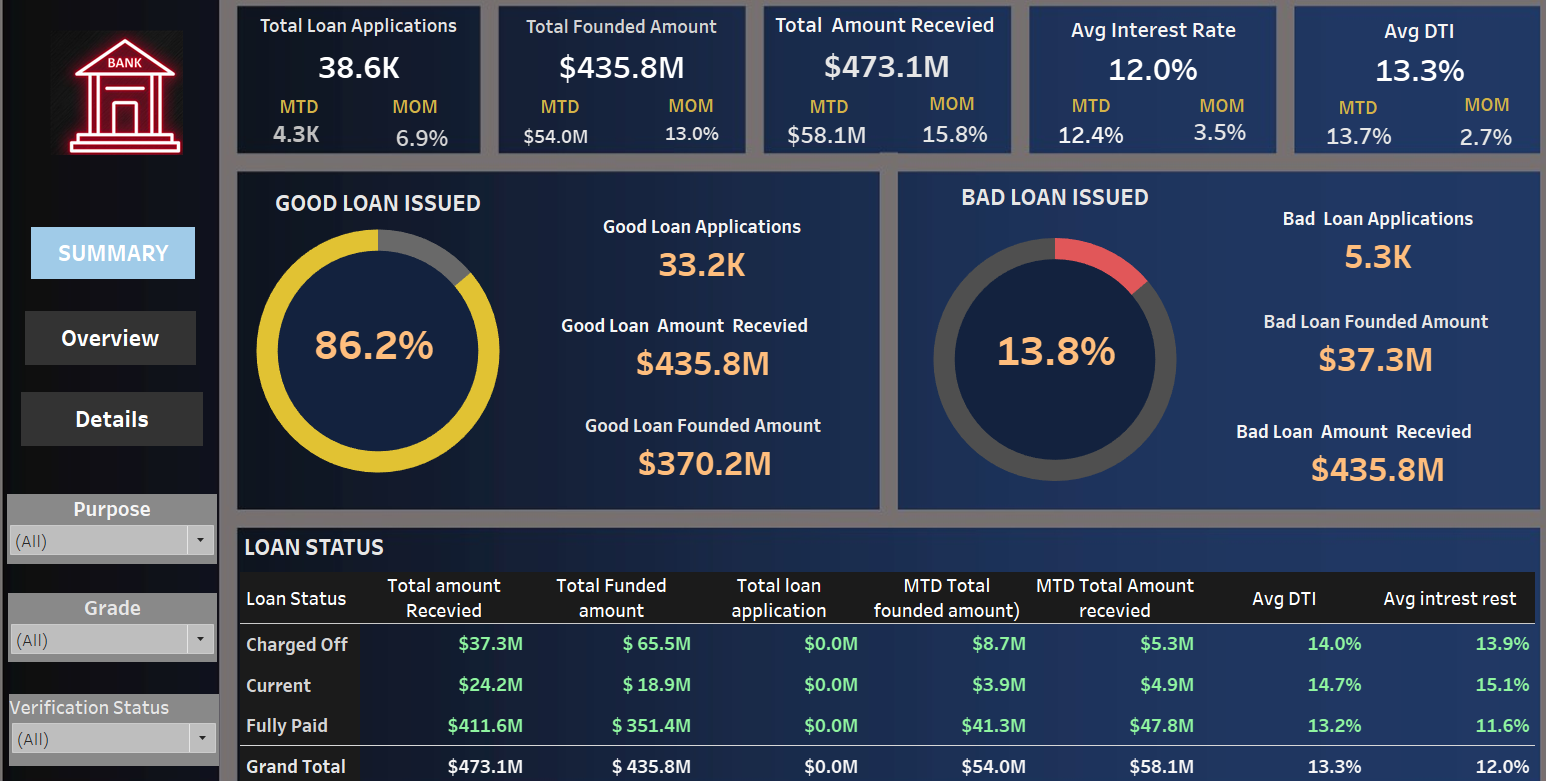

The page's visual inventory and layout, read from the dashboard file:
{"tool":"tableau","page":{"name":"SUMMARY","canvas":[1600,900],"ordinal":3},"visuals":[{"type":"image","param":"C:/Users/shubh/Downloads/Tableau Background 1 (1).jpg","box":[8,8,1584,884]},{"type":"text","box":[543,22,683,52]},{"type":"worksheet","title":"Total  Amount Recevied ","mark":"Automatic","box":[792,96,246,74]},{"type":"worksheet","title":"Total Loan Applications","mark":"Automatic","box":[264,98,245,75]},{"type":"worksheet","title":"Total Founded Amount","mark":"Automatic","box":[527,99,245,74]},{"type":"worksheet","title":"Avg Interest Rate","mark":"Automatic","box":[1063,101,237,70]},{"type":"worksheet","title":"Avg DTI","mark":"Automatic","box":[1328,102,239,70]},{"type":"image","param":"C:/Users/shubh/Pictures/Screenshots/Screenshot 2025-01-28 113935.png","box":[56,120,177,125]},{"type":"text","box":[927,183,102,20]},{"type":"text","box":[1462,184,102,20]},{"type":"text","box":[666,185,102,20]},{"type":"text","box":[1066,185,102,20]},{"type":"text","box":[1197,185,102,20]},{"type":"text","box":[274,186,102,20]},{"type":"text","box":[390,186,102,20]},{"type":"text","box":[535,186,102,20]},{"type":"text","box":[804,186,102,20]},{"type":"text","box":[1333,187,102,20]},{"type":"worksheet","title":"MTD  Avg IR","mark":"Automatic","box":[1076,200,85,48]},{"type":"worksheet","title":"MTD total l A","mark":"Automatic","box":[287,202,73,41]},{"type":"worksheet","title":"MOM Avg IR","mark":"Automatic","box":[1206,202,83,37]},{"type":"worksheet","title":"MTD TAR ","mark":"Automatic","box":[798,203,113,42]},{"type":"worksheet","title":"MOM TAR","mark":"Automatic","box":[934,203,97,40]},{"type":"worksheet","title":"MTD TFA","mark":"Automatic","box":[539,204,89,43]},{"type":"worksheet","title":"MOM T founded amounts","mark":"Automatic","box":[686,204,67,37]},{"type":"worksheet","title":"MTD  Avg DTI","mark":"Automatic","box":[1338,204,97,42]},{"type":"worksheet","title":"MOM Avg DTI","mark":"Automatic","box":[1467,209,93,34]},{"type":"worksheet","title":"MOM LA","mark":"Automatic","box":[408,210,83,33]},{"type":"worksheet","title":"BAD LOAN ISSUED","mark":"Pie","rows":["Calculation_390687307996479489","Calculation_390687307996479489"],"box":[924,267,318,320]},{"type":"worksheet","title":"GOOD LOAN ISSUED","mark":"Pie","rows":["Calculation_390687307996479489","Calculation_390687307996479489"],"box":[173,273,466,291]},{"type":"worksheet","title":"Bad  Loan Applications","mark":"Automatic","box":[1256,287,300,75]},{"type":"worksheet","title":"Good Loan Applications","mark":"Automatic","box":[580,295,300,75]},{"type":"dashboard-object","box":[59,317,164,52]},{"type":"worksheet","title":"Bad Loan Founded Amount","mark":"Automatic","box":[1254,390,300,75]},{"type":"worksheet","title":"Good Loan Application % ","mark":"Automatic","box":[328,391,148,84]},{"type":"worksheet","title":"Good Loan  Amount  Recevied","mark":"Automatic","box":[581,394,300,75]},{"type":"worksheet","title":"Bad Loan Application % ","mark":"Automatic","box":[999,398,169,82]},{"type":"dashboard-object","box":[53,401,171,54]},{"type":"dashboard-object","box":[49,482,182,54]},{"type":"worksheet","title":"Good Loan Founded Amount ","mark":"Automatic","box":[583,494,300,75]},{"type":"worksheet","title":"Bad Loan  Amount  Recevied","mark":"Automatic","box":[1256,500,300,75]},{"type":"filter","title":"GOOD LOAN ISSUED","param":"[federated.1ejbcfz0zn1zyp1604vu70ptl5ki].[none:purpose:nk]","box":[35,584,210,70]},{"type":"worksheet","title":"LOAN STATUS","mark":"Automatic","rows":["loan_status"],"box":[268,617,1295,260]},{"type":"filter","title":"GOOD LOAN ISSUED","param":"[federated.1ejbcfz0zn1zyp1604vu70ptl5ki].[none:grade:nk]","box":[36,683,209,69]},{"type":"filter","title":"GOOD LOAN ISSUED","param":"[federated.1ejbcfz0zn1zyp1604vu70ptl5ki].[none:verification_status:nk]","box":[37,784,210,72]}]}

Visuals, with their boxes on the page's 1600x900 design canvas (x1, y1, x2, y2). These are canvas units, not pixel positions in the 1546x782 screenshot, which may show the page scaled, cropped or inside an application window:
image: (x1=8, y1=8, x2=1592, y2=892)
text: (x1=543, y1=22, x2=1226, y2=74)
"Total  Amount Recevied " worksheet: (x1=792, y1=96, x2=1038, y2=170)
"Total Loan Applications" worksheet: (x1=264, y1=98, x2=509, y2=173)
"Total Founded Amount" worksheet: (x1=527, y1=99, x2=772, y2=173)
"Avg Interest Rate" worksheet: (x1=1063, y1=101, x2=1300, y2=171)
"Avg DTI" worksheet: (x1=1328, y1=102, x2=1567, y2=172)
image: (x1=56, y1=120, x2=233, y2=245)
text: (x1=927, y1=183, x2=1029, y2=203)
text: (x1=1462, y1=184, x2=1564, y2=204)
text: (x1=666, y1=185, x2=768, y2=205)
text: (x1=1066, y1=185, x2=1168, y2=205)
text: (x1=1197, y1=185, x2=1299, y2=205)
text: (x1=274, y1=186, x2=376, y2=206)
text: (x1=390, y1=186, x2=492, y2=206)
text: (x1=535, y1=186, x2=637, y2=206)
text: (x1=804, y1=186, x2=906, y2=206)
text: (x1=1333, y1=187, x2=1435, y2=207)
"MTD  Avg IR" worksheet: (x1=1076, y1=200, x2=1161, y2=248)
"MTD total l A" worksheet: (x1=287, y1=202, x2=360, y2=243)
"MOM Avg IR" worksheet: (x1=1206, y1=202, x2=1289, y2=239)
"MTD TAR " worksheet: (x1=798, y1=203, x2=911, y2=245)
"MOM TAR" worksheet: (x1=934, y1=203, x2=1031, y2=243)
"MTD TFA" worksheet: (x1=539, y1=204, x2=628, y2=247)
"MOM T founded amounts" worksheet: (x1=686, y1=204, x2=753, y2=241)
"MTD  Avg DTI" worksheet: (x1=1338, y1=204, x2=1435, y2=246)
"MOM Avg DTI" worksheet: (x1=1467, y1=209, x2=1560, y2=243)
"MOM LA" worksheet: (x1=408, y1=210, x2=491, y2=243)
"BAD LOAN ISSUED" worksheet (Pie marks): (x1=924, y1=267, x2=1242, y2=587)
"GOOD LOAN ISSUED" worksheet (Pie marks): (x1=173, y1=273, x2=639, y2=564)
"Bad  Loan Applications" worksheet: (x1=1256, y1=287, x2=1556, y2=362)
"Good Loan Applications" worksheet: (x1=580, y1=295, x2=880, y2=370)
dashboard-object: (x1=59, y1=317, x2=223, y2=369)
"Bad Loan Founded Amount" worksheet: (x1=1254, y1=390, x2=1554, y2=465)
"Good Loan Application % " worksheet: (x1=328, y1=391, x2=476, y2=475)
"Good Loan  Amount  Recevied" worksheet: (x1=581, y1=394, x2=881, y2=469)
"Bad Loan Application % " worksheet: (x1=999, y1=398, x2=1168, y2=480)
dashboard-object: (x1=53, y1=401, x2=224, y2=455)
dashboard-object: (x1=49, y1=482, x2=231, y2=536)
"Good Loan Founded Amount " worksheet: (x1=583, y1=494, x2=883, y2=569)
"Bad Loan  Amount  Recevied" worksheet: (x1=1256, y1=500, x2=1556, y2=575)
"GOOD LOAN ISSUED" filter: (x1=35, y1=584, x2=245, y2=654)
"LOAN STATUS" worksheet: (x1=268, y1=617, x2=1563, y2=877)
"GOOD LOAN ISSUED" filter: (x1=36, y1=683, x2=245, y2=752)
"GOOD LOAN ISSUED" filter: (x1=37, y1=784, x2=247, y2=856)
